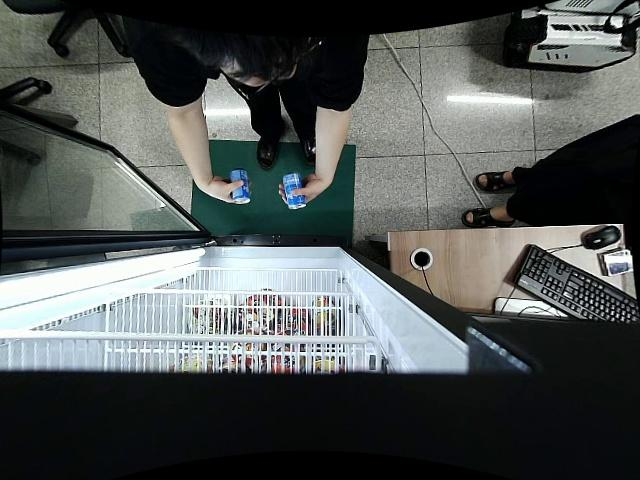00_hand: (278, 174, 329, 206), (211, 177, 254, 205)
15_letsbe: (281, 171, 307, 210), (229, 168, 251, 206)
